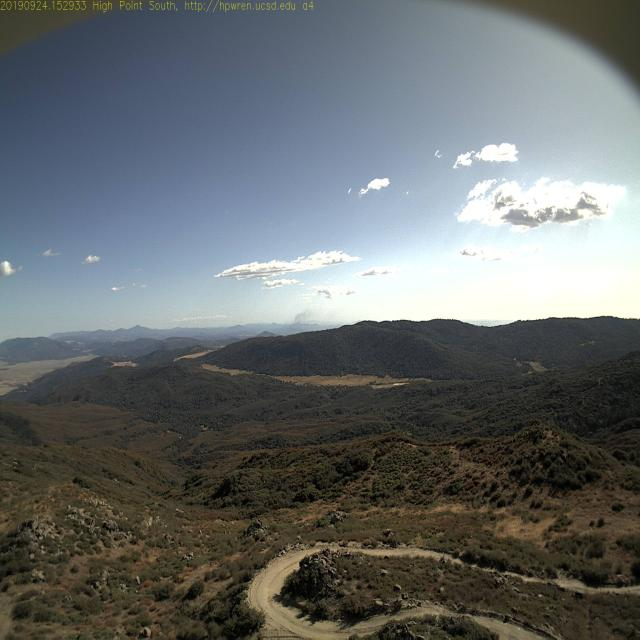smoke: (289, 306, 315, 326)
